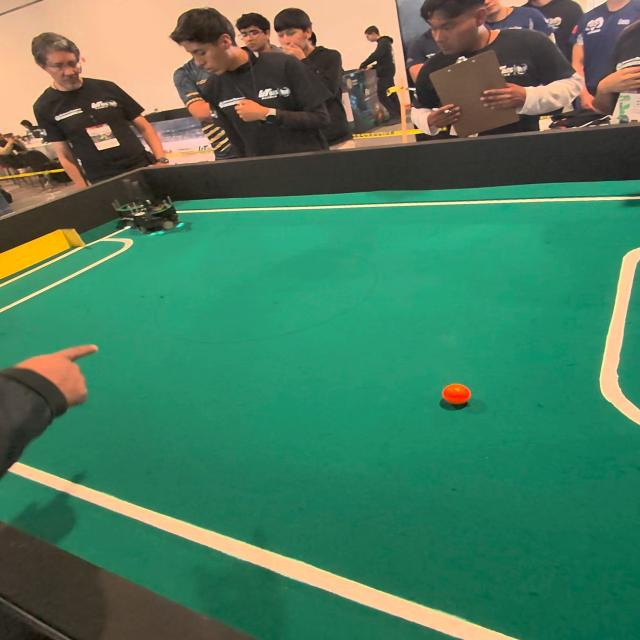Robot: (100, 173, 162, 235), (134, 182, 191, 245)
pelota: (442, 384, 472, 410)
